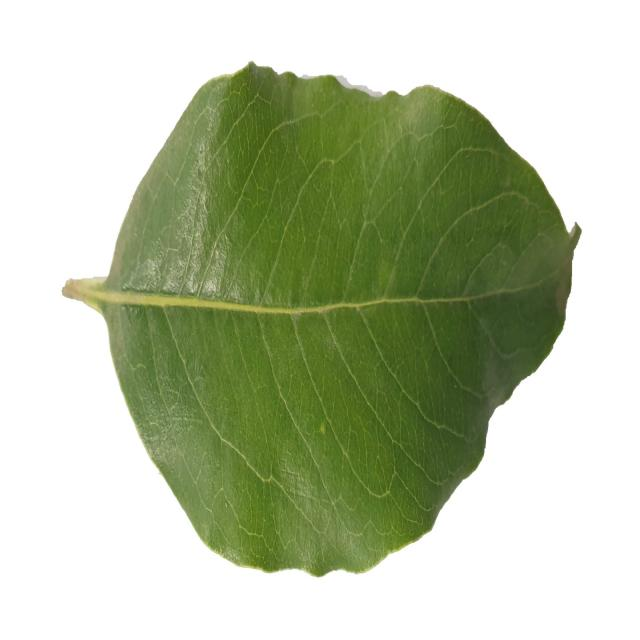Medicinal-Sandalwood: (62, 58, 584, 580)
